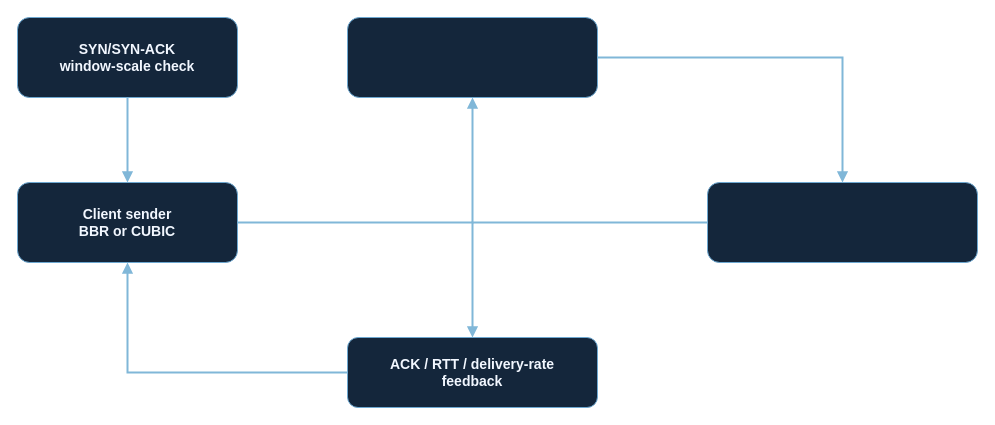
This 995x425 diagram has some shape labels left out. Each missing label, with the centre of its shape:
FortiGate Global TCP stack: (472,57)
Server receiver ACK + receive window: (842,222)
